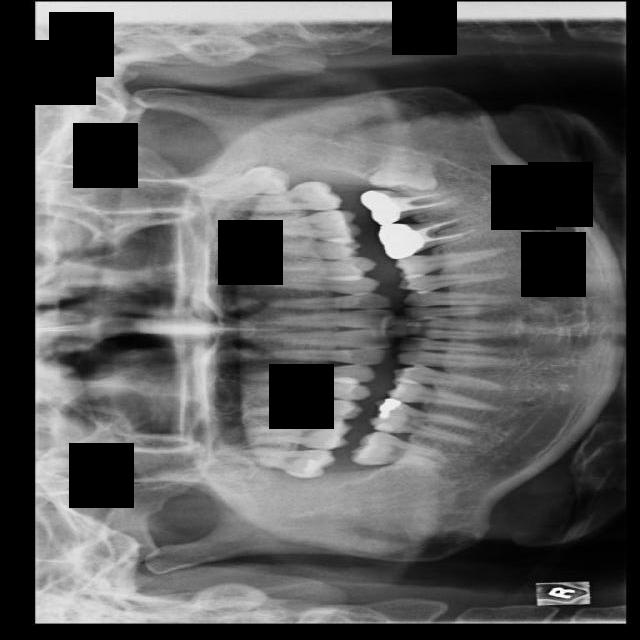52: (355, 181, 405, 231), (365, 391, 416, 439), (377, 219, 426, 260), (286, 447, 338, 478)
73: (403, 201, 480, 254), (375, 189, 455, 219), (578, 36, 588, 44)
BioHorizons Implant: (233, 179, 342, 213)
BioLife Implant: (196, 162, 293, 202)
Biomet 3i Implant: (369, 157, 439, 191)
Caries: (223, 448, 337, 478)
Implant: (350, 430, 453, 467)
